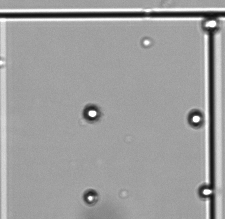Living Cell: (187, 109, 204, 128), (82, 105, 100, 122), (83, 189, 98, 205), (202, 17, 218, 32), (199, 184, 214, 198)
